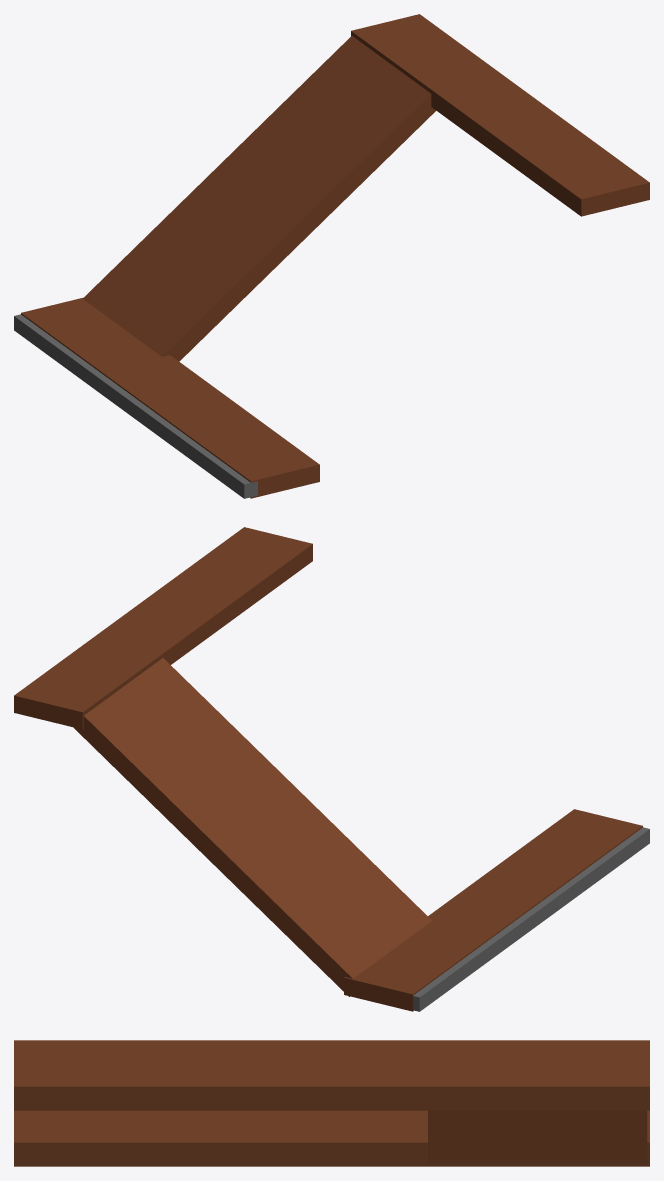
The picture shows the model from 3 angles, top to bottom: view 1: azimuth 30°, elevation 25°; view 2: azimuth 150°, elevation 25°; view 3: azimuth 270°, elevation 25°; orthographic projection. The views are drawn at different scales.
Visible parts, largest first — view 1: Cube.101, Cube.011, Cube.023, Cube.096; view 2: Cube.101, Cube.011, Cube.023, Cube.096; view 3: Cube.011, Cube.023, Cube.101.
Boxes of the visible parts, x1,y1,x2,y2 form: Cube.101: [82, 36, 436, 361]; Cube.011: [351, 14, 649, 216]; Cube.023: [21, 298, 319, 498]; Cube.096: [14, 314, 257, 498]; Cube.101: [73, 658, 431, 996]; Cube.011: [14, 527, 312, 729]; Cube.023: [344, 809, 642, 1011]; Cube.096: [413, 827, 649, 1011]; Cube.011: [14, 1040, 649, 1110]; Cube.023: [14, 1110, 649, 1166]; Cube.101: [428, 1110, 647, 1164].
Size of the model in its own units: 295 by 153 by 290.
